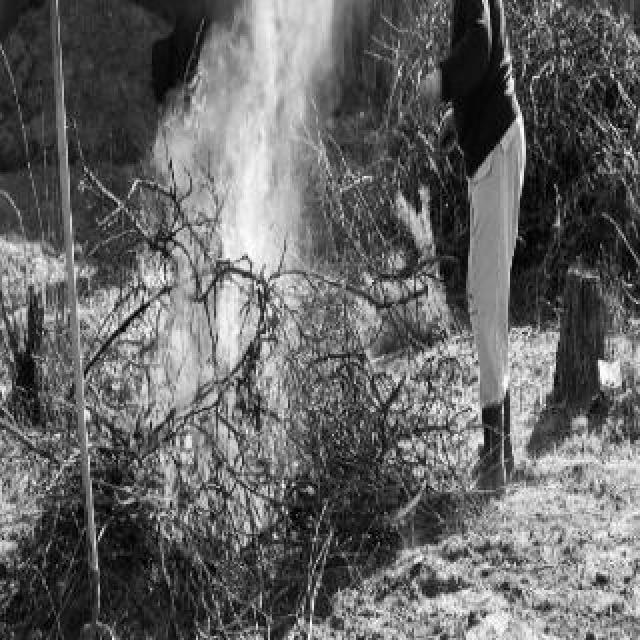Fire: (130, 110, 214, 520)
